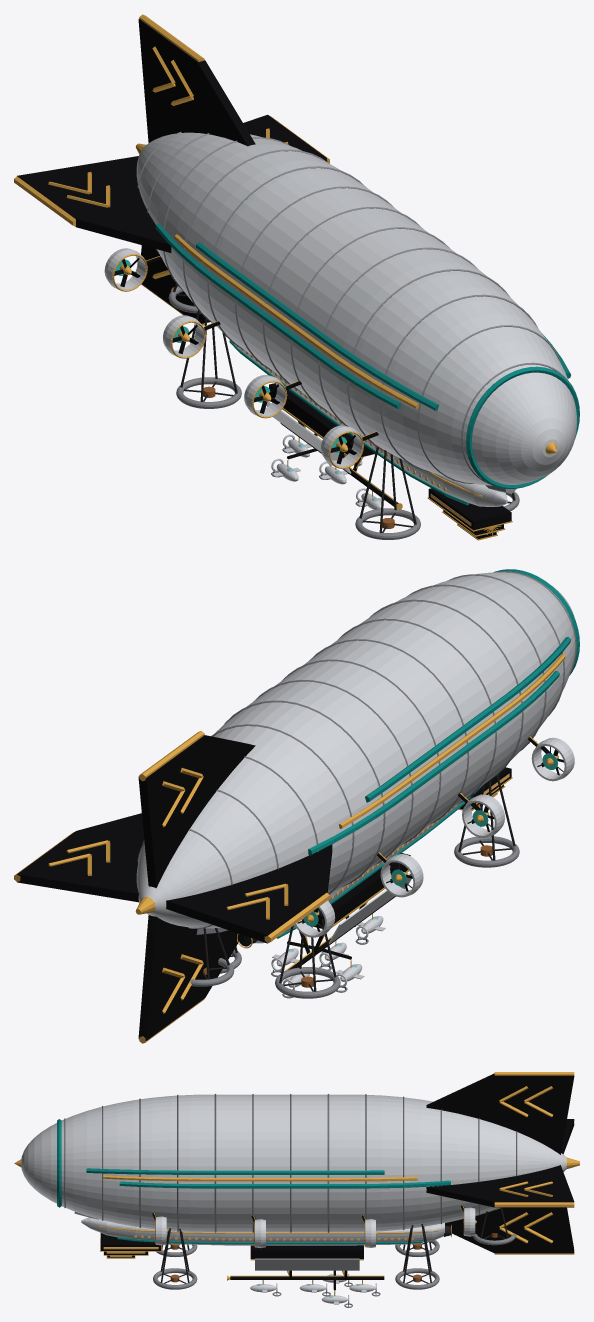
File: carrier.obj
3 views of the same model, one above another, from view 1: azimuth 30°, elevation 25°; view 2: azimuth 150°, elevation 25°; view 3: azimuth 270°, elevation 25° (orthographic). The views are drawn at different scales.
Parts seen in each view (by area): view 1: carrier; view 2: carrier; view 3: carrier.
Part boxes in pixels (box(x1,y1,x2,y2)): carrier: box(14, 14, 579, 540); carrier: box(14, 569, 579, 1043); carrier: box(14, 1072, 579, 1307).
Size of the model in its own units: 390 by 480 by 1100.
Materials: 1 (1 with a texture image).
